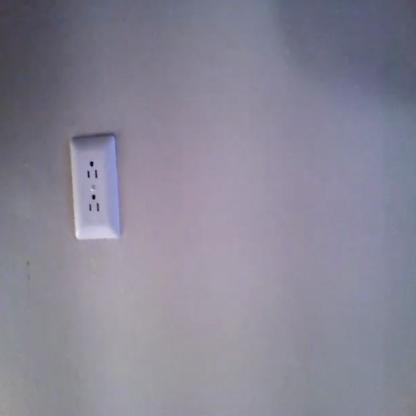OUTLET: (73, 137, 116, 239)
